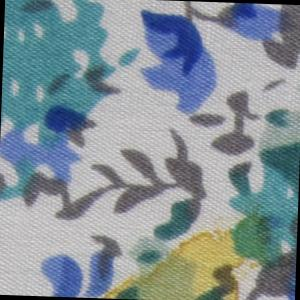Oil Stain: (99, 200, 276, 300)
